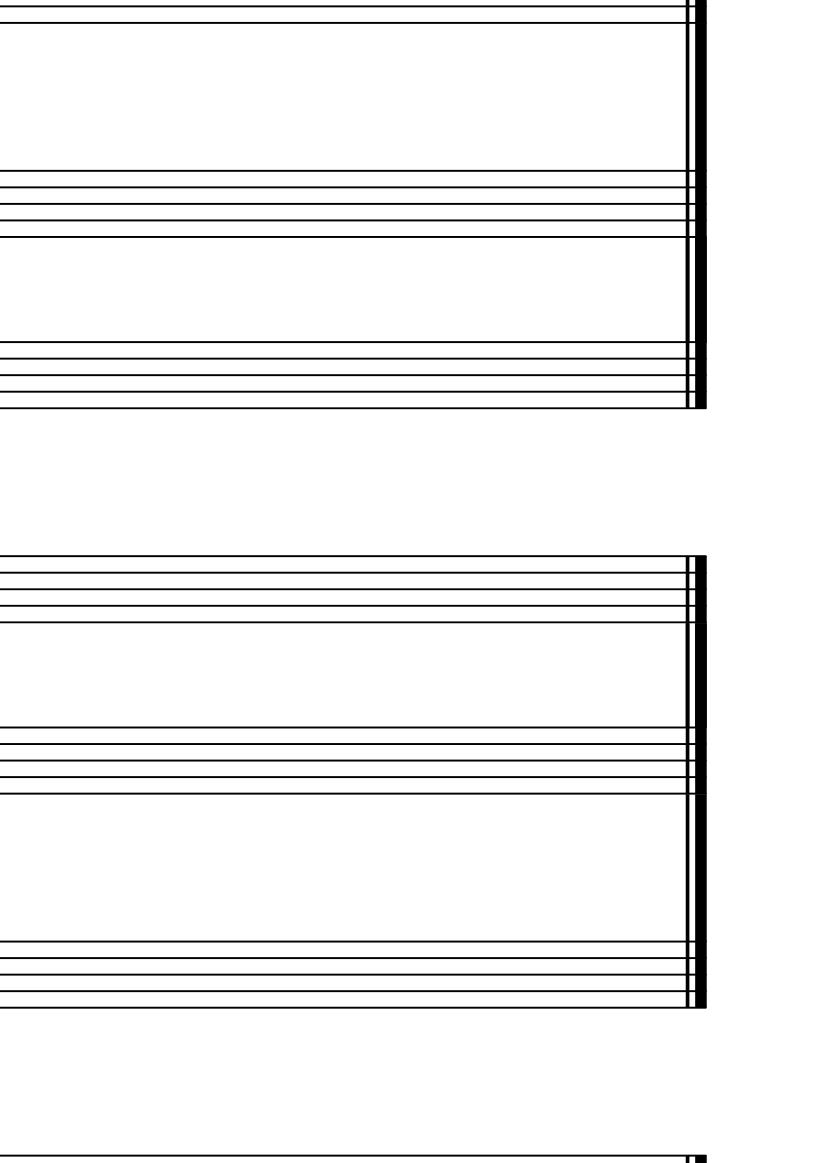Final_barline: (679, 725, 709, 793), (679, 169, 709, 235), (680, 340, 709, 408), (680, 554, 709, 622), (680, 939, 709, 1007), (681, 1, 705, 25)
